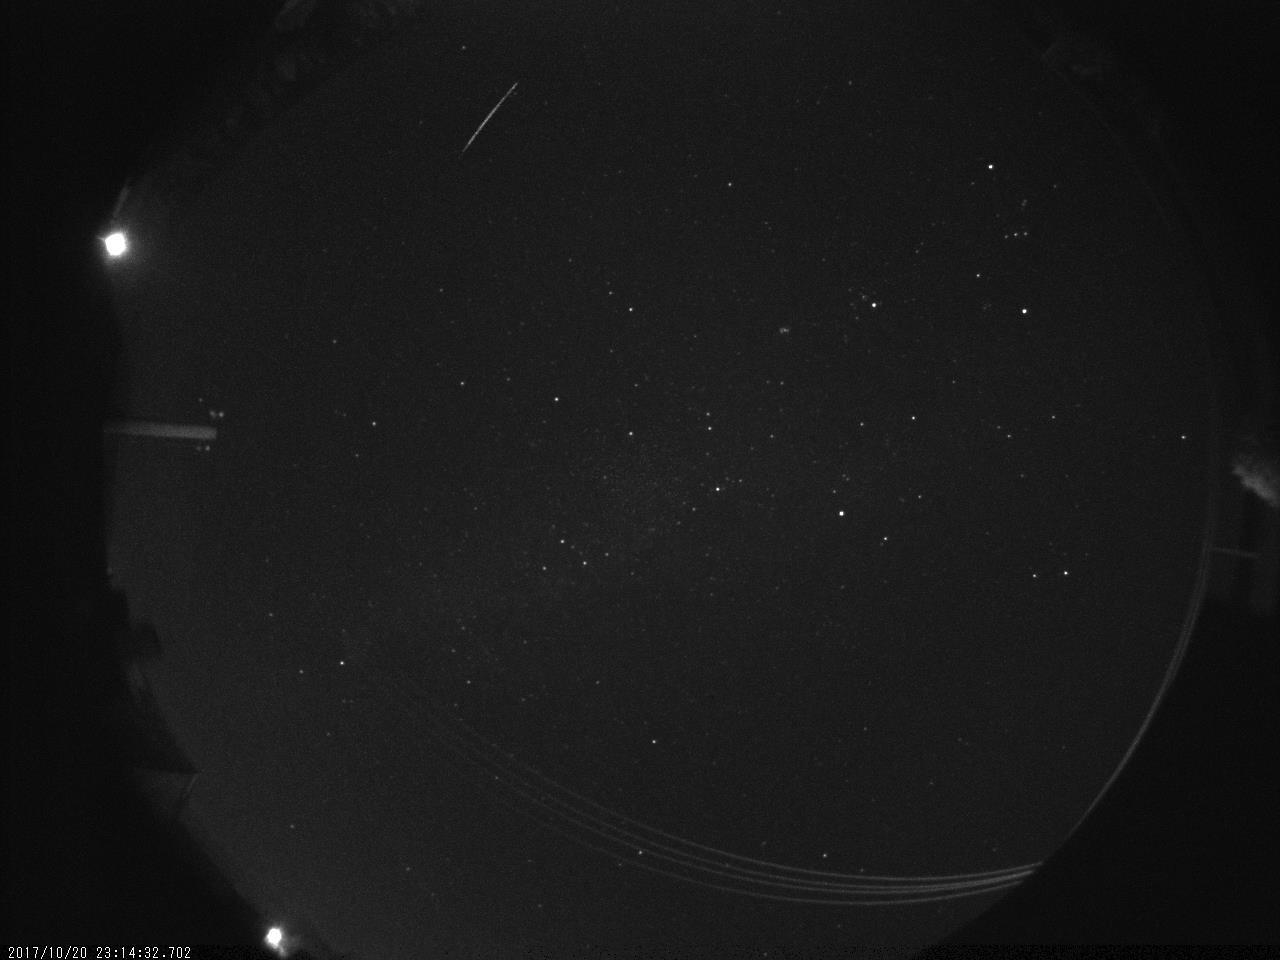Meteor: (457, 78, 520, 157)
